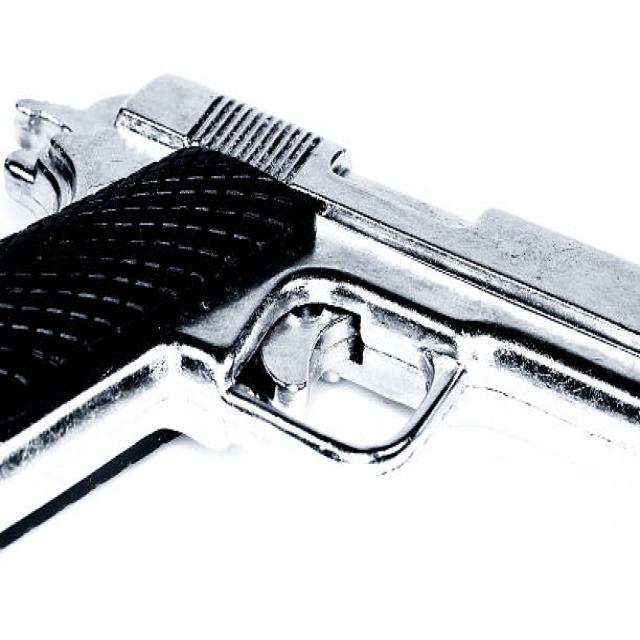pistol: (1, 67, 640, 564)
